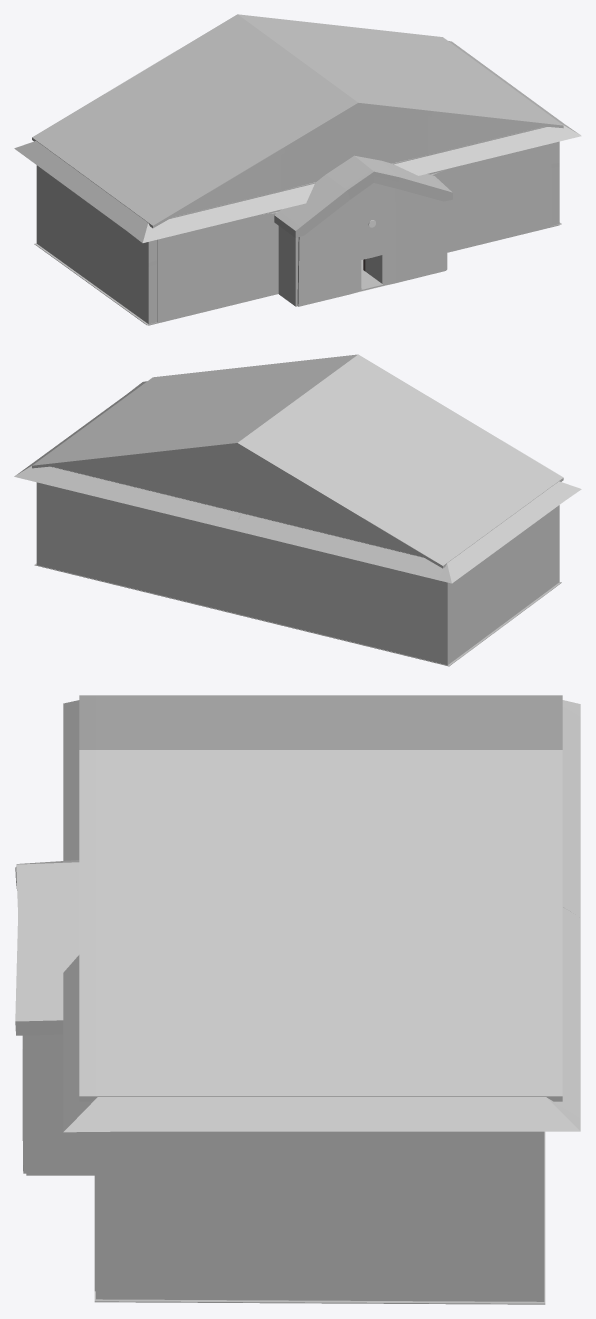
File: træhus40.fbx
3 renders of one model, top to bottom at view 1: azimuth 30°, elevation 25°; view 2: azimuth 150°, elevation 25°; view 3: azimuth 270°, elevation 25°, orthographic. The views are drawn at different scales.
Parts seen in each view (by area): view 1: Cube, Cube.001; view 2: Cube, Cube.001; view 3: Cube, Cube.001.
Part boxes in pixels (x1,y1,x2,y2): Cube: (32, 14, 563, 325); Cube.001: (14, 41, 581, 242); Cube: (32, 354, 563, 666); Cube.001: (14, 381, 581, 583); Cube: (15, 695, 562, 1304); Cube.001: (63, 700, 580, 1132).
Bounding box in the file's own units: 4072 × 1560 × 2269.
